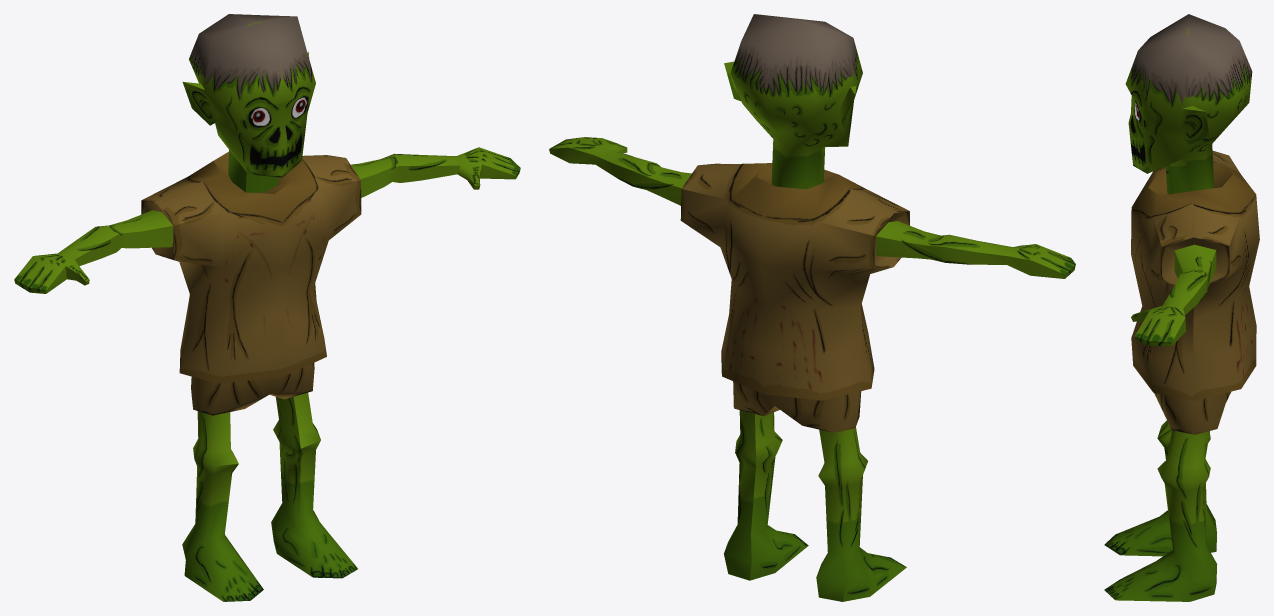
The model's file is Zombie_low4.fbx.
3 views of the same model, side by side, from view 1: azimuth 30°, elevation 25°; view 2: azimuth 150°, elevation 25°; view 3: azimuth 270°, elevation 25° (orthographic). The views are drawn at different scales.
Parts seen in each view (by area): view 1: Cube; view 2: Cube; view 3: Cube.
Boxes of the visible parts, <box> form: Cube: <box>14,14,520,601</box>; Cube: <box>549,14,1075,601</box>; Cube: <box>1104,14,1259,601</box>.
Bounding box in the file's own units: 6.07 × 6.27 × 1.65.
1 material, 1 textured.
